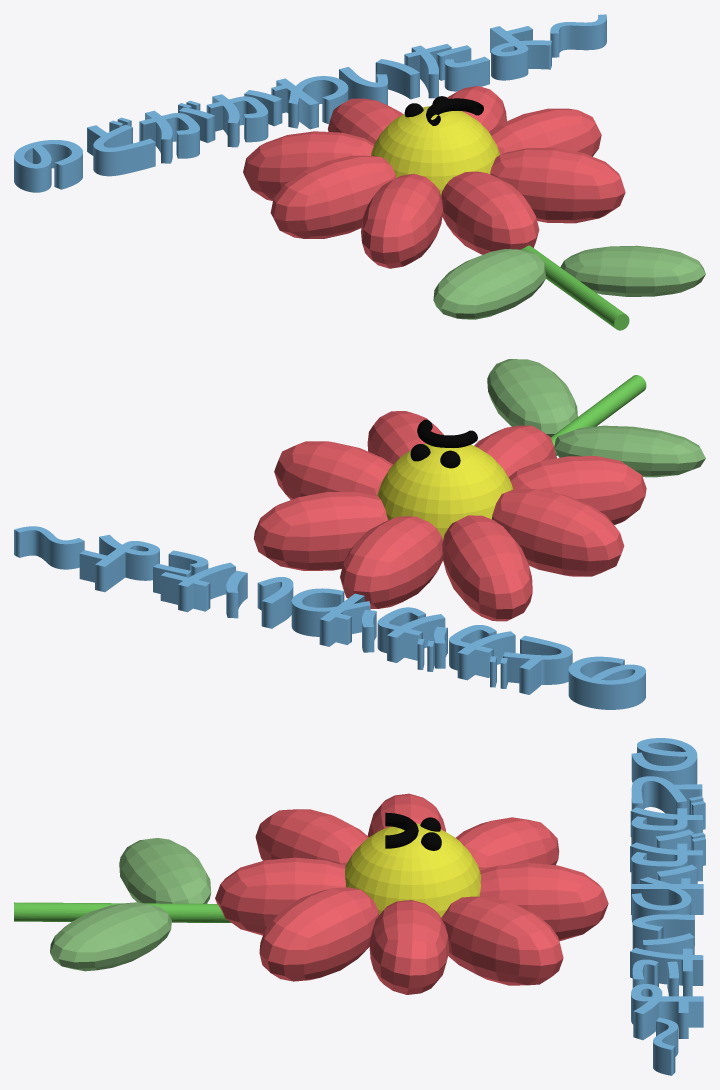
Rendered from DRY.fbx.
The picture shows the model from 3 angles, top to bottom: view 1: azimuth 30°, elevation 25°; view 2: azimuth 150°, elevation 25°; view 3: azimuth 270°, elevation 25°; orthographic projection. The views are drawn at different scales.
Parts seen in each view (by area): view 1: テキスト, 立方体.006, 立方体.002, 球, 立方体.003, 立方体.005, 立方体.008, 立方体.009, 立方体.007, 立方体.001, 立方体, 円柱 (+2 smaller); view 2: テキスト, 立方体.002, 球, 立方体.004, 立方体.007, 立方体, 立方体.005, 立方体.009, 立方体.001, 立方体.008, 立方体.003, 立方体.006 (+2 smaller); view 3: テキスト, 立方体.006, 立方体.004, 球, 立方体, 立方体.001, 立方体.003, 立方体.008, 立方体.009, 立方体.005, 立方体.007, 円柱 (+2 smaller).
Boxes of the visible parts, x1,y1,x2,y2 form: テキスト: [14, 14, 606, 192]; 立方体.006: [490, 148, 625, 223]; 立方体.002: [270, 155, 395, 238]; 球: [371, 106, 500, 196]; 立方体.003: [441, 171, 539, 254]; 立方体.005: [361, 173, 442, 268]; 立方体.008: [560, 245, 705, 296]; 立方体.009: [433, 249, 546, 319]; 立方体.007: [243, 131, 374, 201]; 立方体.001: [489, 108, 601, 156]; 立方体: [328, 98, 402, 144]; 円柱: [521, 245, 629, 330]; テキスト: [14, 526, 645, 709]; 立方体.002: [492, 489, 624, 576]; 球: [377, 443, 513, 540]; 立方体.004: [253, 492, 387, 570]; 立方体.007: [442, 515, 532, 621]; 立方体: [340, 516, 442, 608]; 立方体.005: [508, 456, 646, 524]; 立方体.009: [554, 425, 705, 477]; 立方体.001: [274, 441, 392, 499]; 立方体.008: [487, 359, 577, 436]; 立方体.003: [474, 425, 556, 476]; 立方体.006: [367, 411, 443, 464]; テキスト: [630, 738, 705, 1075]; 立方体.006: [259, 887, 378, 981]; 立方体.004: [441, 896, 563, 985]; 球: [345, 823, 480, 917]; 立方体: [480, 863, 608, 941]; 立方体.001: [369, 900, 449, 994]; 立方体.003: [215, 857, 345, 935]; 立方体.008: [50, 902, 171, 971]; 立方体.009: [119, 838, 211, 903]; 立方体.005: [255, 809, 368, 865]; 立方体.007: [455, 817, 559, 870]; 円柱: [14, 902, 231, 922].
Bounding box in the file's own units: 770 × 140 × 722.
